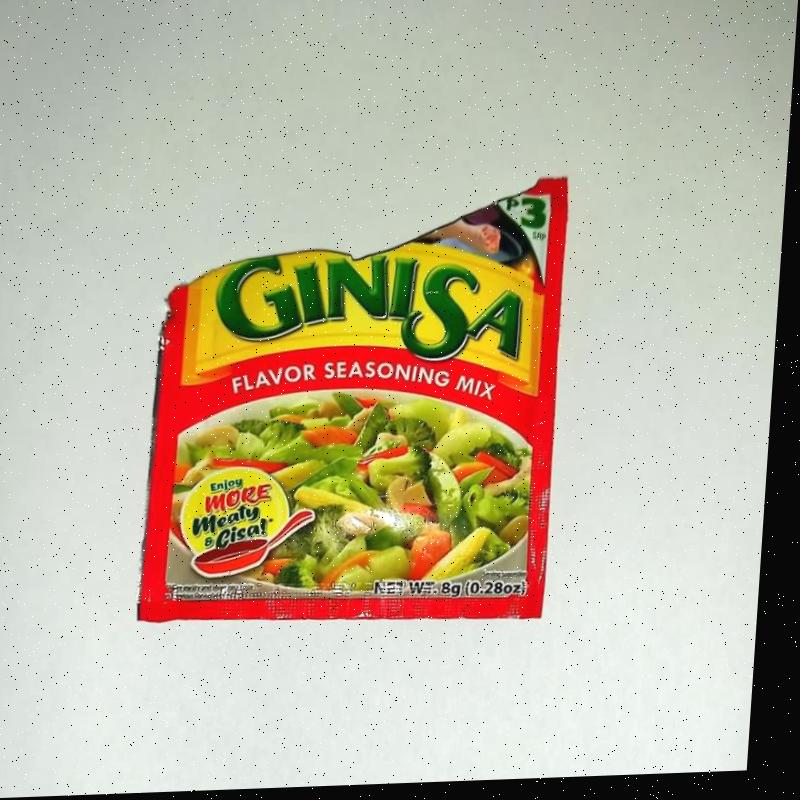plastic sachet: (134, 178, 570, 628)
